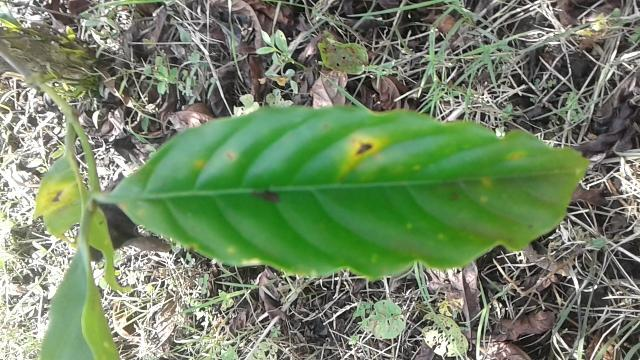healthy: (104, 102, 602, 280)
